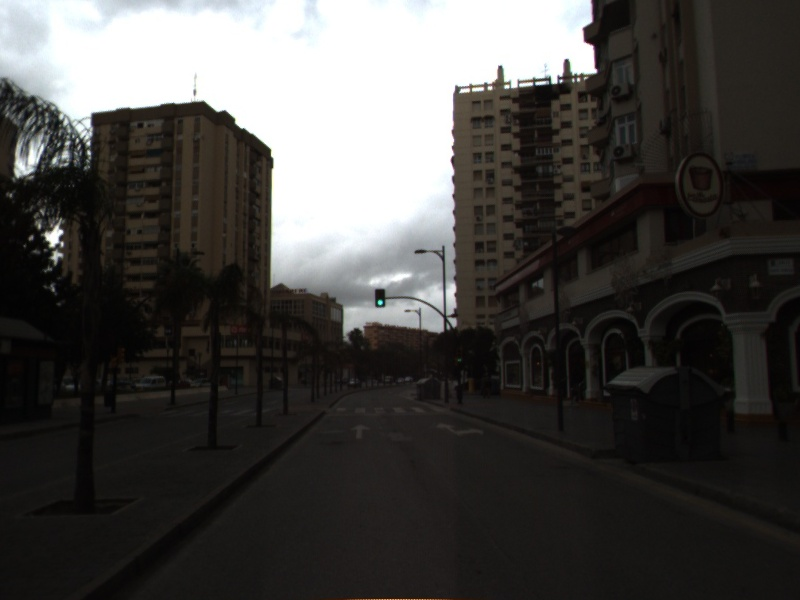STRAIGHT: (347, 422, 373, 441)
STRAIGHT_RIGHT: (434, 420, 486, 438)
